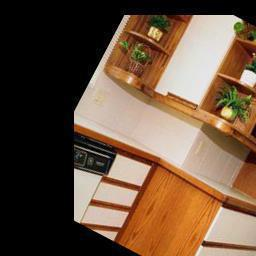Electrodomestico: (33, 128, 116, 223)
